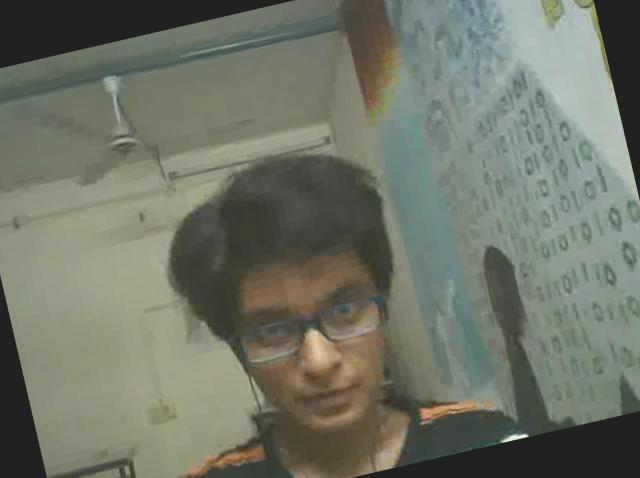bingung: (226, 231, 415, 450)
